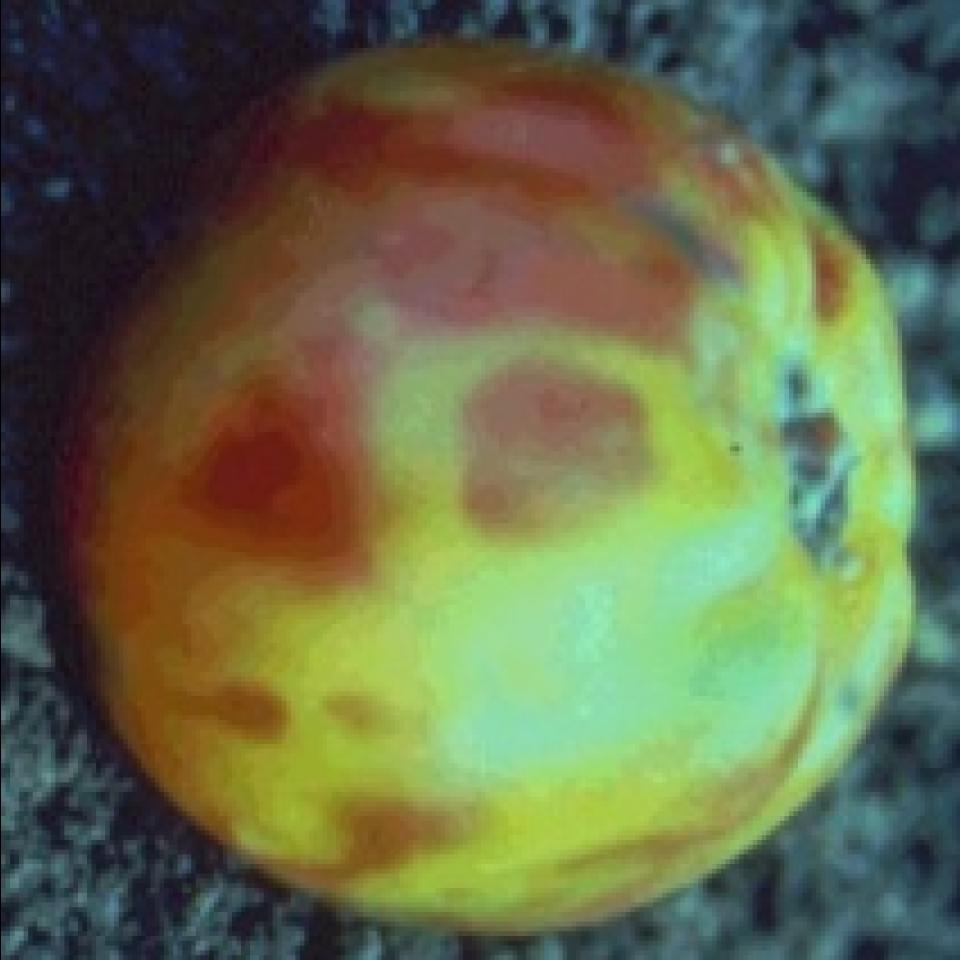Spotted wilt Virus: (59, 38, 915, 931)
